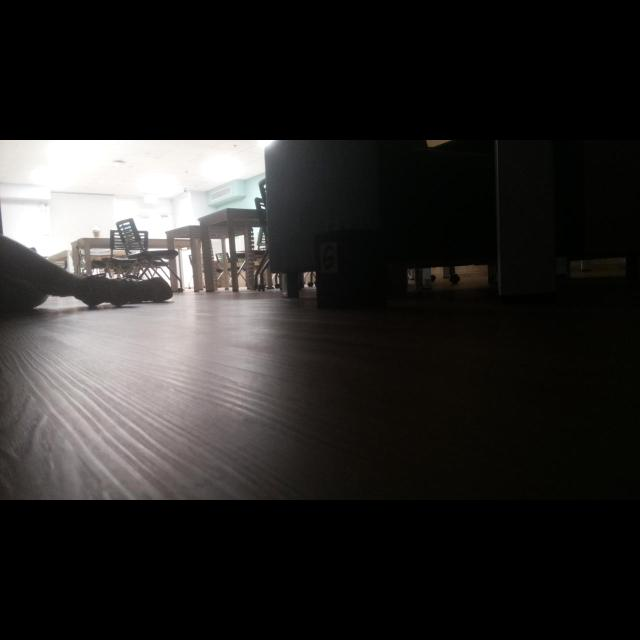G: (323, 245, 334, 269)
